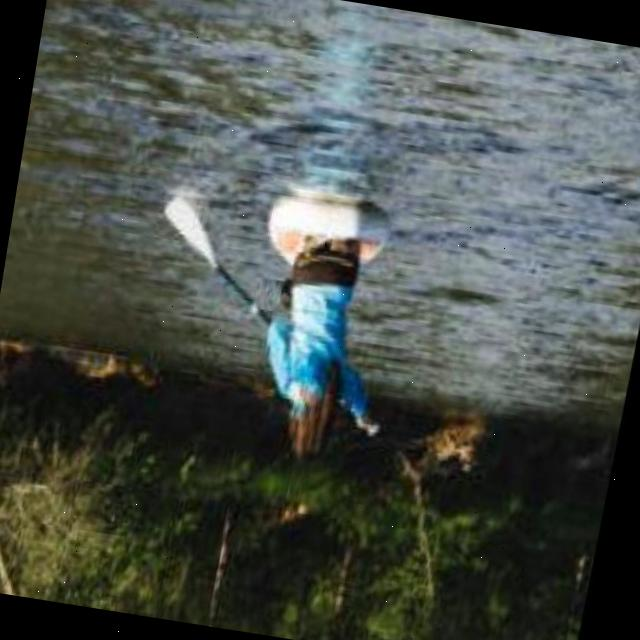kayak: (271, 198, 392, 258)
